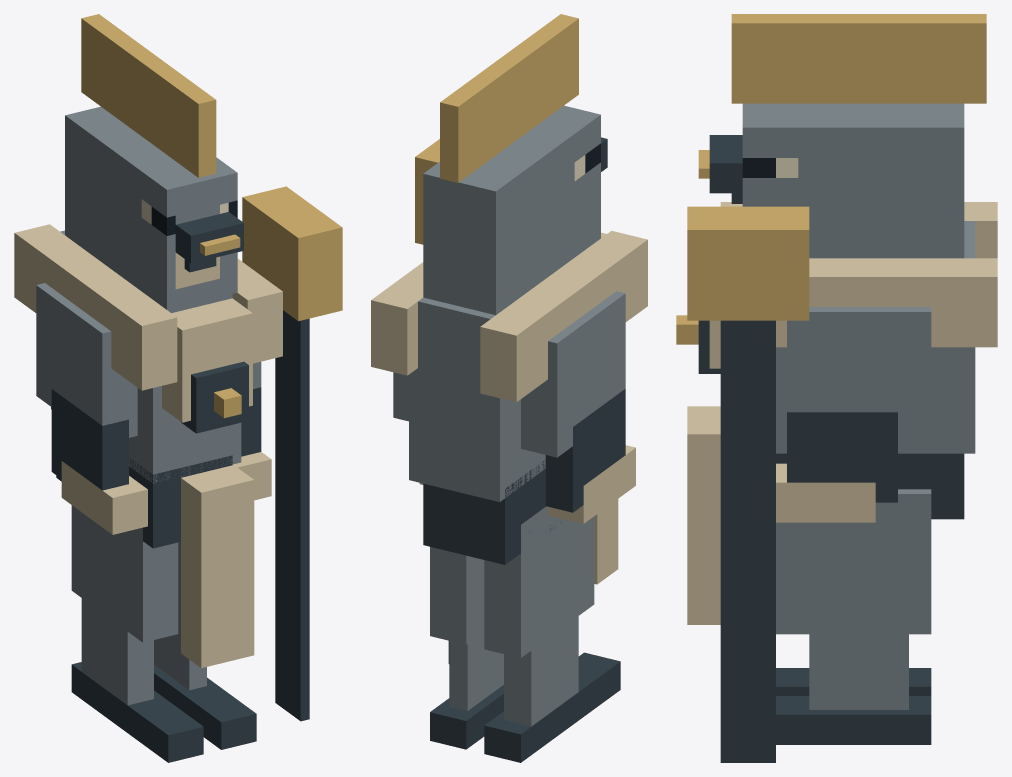
File: oath_sentinel.glb
3 renders of one model, left to right at view 1: azimuth 30°, elevation 25°; view 2: azimuth 150°, elevation 25°; view 3: azimuth 270°, elevation 25°, orthographic. The views are drawn at different scales.
Parts seen in each view (by area): view 1: oath_sentinel/torso, oath_sentinel/head, oath_sentinel/guard_staff, oath_sentinel/leg_-1, oath_sentinel/arm_-1, oath_sentinel/tabard, oath_sentinel/helmet_crest, oath_sentinel/leg_1, oath_sentinel/chest_panel, oath_sentinel/pelvis, oath_sentinel/arm_1; view 2: oath_sentinel/torso, oath_sentinel/head, oath_sentinel/leg_-1, oath_sentinel/arm_-1, oath_sentinel/helmet_crest, oath_sentinel/leg_1, oath_sentinel/pelvis, oath_sentinel/tabard, oath_sentinel/guard_staff, oath_sentinel/arm_1; view 3: oath_sentinel/guard_staff, oath_sentinel/head, oath_sentinel/leg_1, oath_sentinel/arm_1, oath_sentinel/helmet_crest, oath_sentinel/torso, oath_sentinel/tabard, oath_sentinel/pelvis, oath_sentinel/leg_-1, oath_sentinel/chest_panel.
Boxes of the visible parts, x1,y1,x2,y2 form: oath_sentinel/torso: [14, 224, 282, 483]; oath_sentinel/head: [65, 106, 243, 309]; oath_sentinel/guard_staff: [242, 186, 342, 721]; oath_sentinel/leg_-1: [71, 505, 203, 762]; oath_sentinel/arm_-1: [36, 283, 147, 534]; oath_sentinel/tabard: [181, 465, 254, 668]; oath_sentinel/helmet_crest: [81, 14, 216, 177]; oath_sentinel/leg_1: [154, 542, 256, 749]; oath_sentinel/chest_panel: [181, 361, 248, 433]; oath_sentinel/pelvis: [56, 455, 232, 548]; oath_sentinel/arm_1: [232, 361, 271, 500]; oath_sentinel/torso: [371, 230, 647, 502]; oath_sentinel/head: [423, 105, 607, 315]; oath_sentinel/leg_-1: [484, 506, 620, 762]; oath_sentinel/arm_-1: [521, 291, 635, 523]; oath_sentinel/helmet_crest: [440, 14, 578, 182]; oath_sentinel/leg_1: [430, 547, 503, 749]; oath_sentinel/pelvis: [423, 460, 561, 564]; oath_sentinel/tabard: [594, 499, 618, 584]; oath_sentinel/guard_staff: [415, 139, 449, 663]; oath_sentinel/arm_1: [393, 372, 423, 484]; oath_sentinel/guard_staff: [687, 206, 809, 762]; oath_sentinel/head: [698, 103, 964, 258]; oath_sentinel/leg_1: [776, 489, 931, 744]; oath_sentinel/arm_1: [776, 307, 931, 522]; oath_sentinel/helmet_crest: [731, 14, 986, 103]; oath_sentinel/torso: [709, 202, 997, 453]; oath_sentinel/tabard: [687, 406, 720, 624]; oath_sentinel/pelvis: [776, 453, 964, 519]; oath_sentinel/leg_-1: [776, 668, 931, 695]; oath_sentinel/chest_panel: [676, 315, 720, 373].
Bounding box in the file's own units: 0.6875 × 2.19 × 0.9062.
